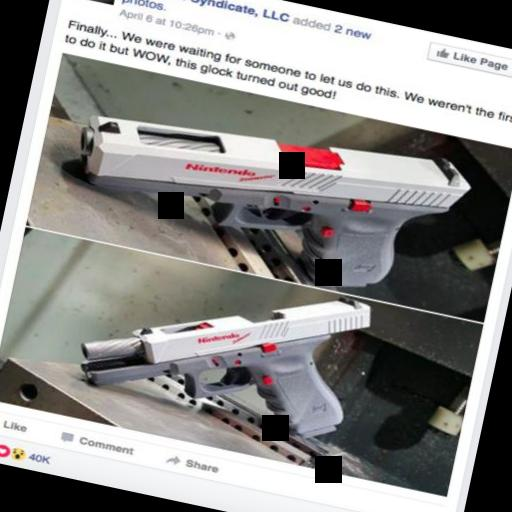Handgun: (52, 72, 486, 312), (68, 242, 374, 448)
